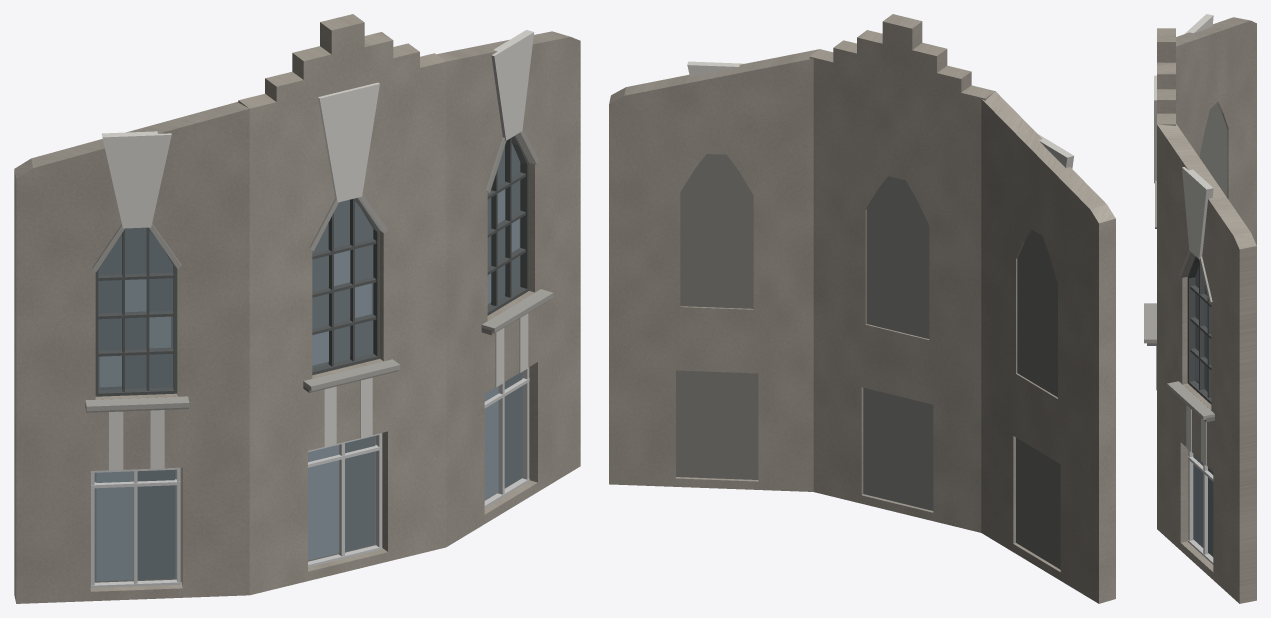
Rendered from guangdong-bank-three-faceted-windows-far.glb.
3 renders of one model, left to right at view 1: azimuth 30°, elevation 25°; view 2: azimuth 150°, elevation 25°; view 3: azimuth 270°, elevation 25°, orthographic. The views are drawn at different scales.
Visible parts, largest first — view 1: 广东银行转角塔三面切肩钢窗; view 2: 广东银行转角塔三面切肩钢窗; view 3: 广东银行转角塔三面切肩钢窗.
Part boxes in pixels (x1=…): 广东银行转角塔三面切肩钢窗: x1=14, y1=14, x2=580, y2=603; 广东银行转角塔三面切肩钢窗: x1=609, y1=14, x2=1115, y2=603; 广东银行转角塔三面切肩钢窗: x1=1144, y1=14, x2=1256, y2=603.
Size of the model in its own units: 6.9 by 6.36 by 1.43.
Materials: 9 (1 with a texture image).
